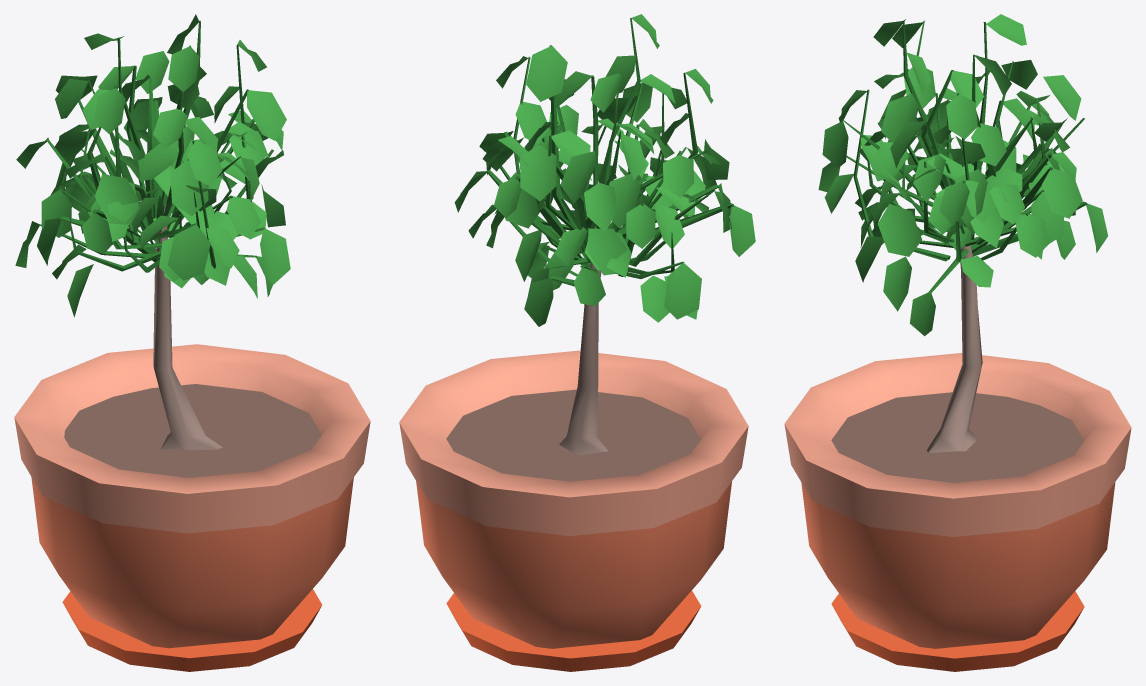
File: Plants_M4.fbx
3 renders of one model, left to right at view 1: azimuth 30°, elevation 25°; view 2: azimuth 150°, elevation 25°; view 3: azimuth 270°, elevation 25°, orthographic. The views are drawn at different scales.
Parts seen in each view (by area): view 1: Plants_M4; view 2: Plants_M4; view 3: Plants_M4.
Boxes of the visible parts, bbox=[...] form: Plants_M4: bbox=[14, 14, 370, 671]; Plants_M4: bbox=[399, 14, 755, 671]; Plants_M4: bbox=[784, 14, 1131, 671].
Bounding box in the file's own units: 0.3003 × 0.5434 × 0.2908.
1 material, 1 textured.
